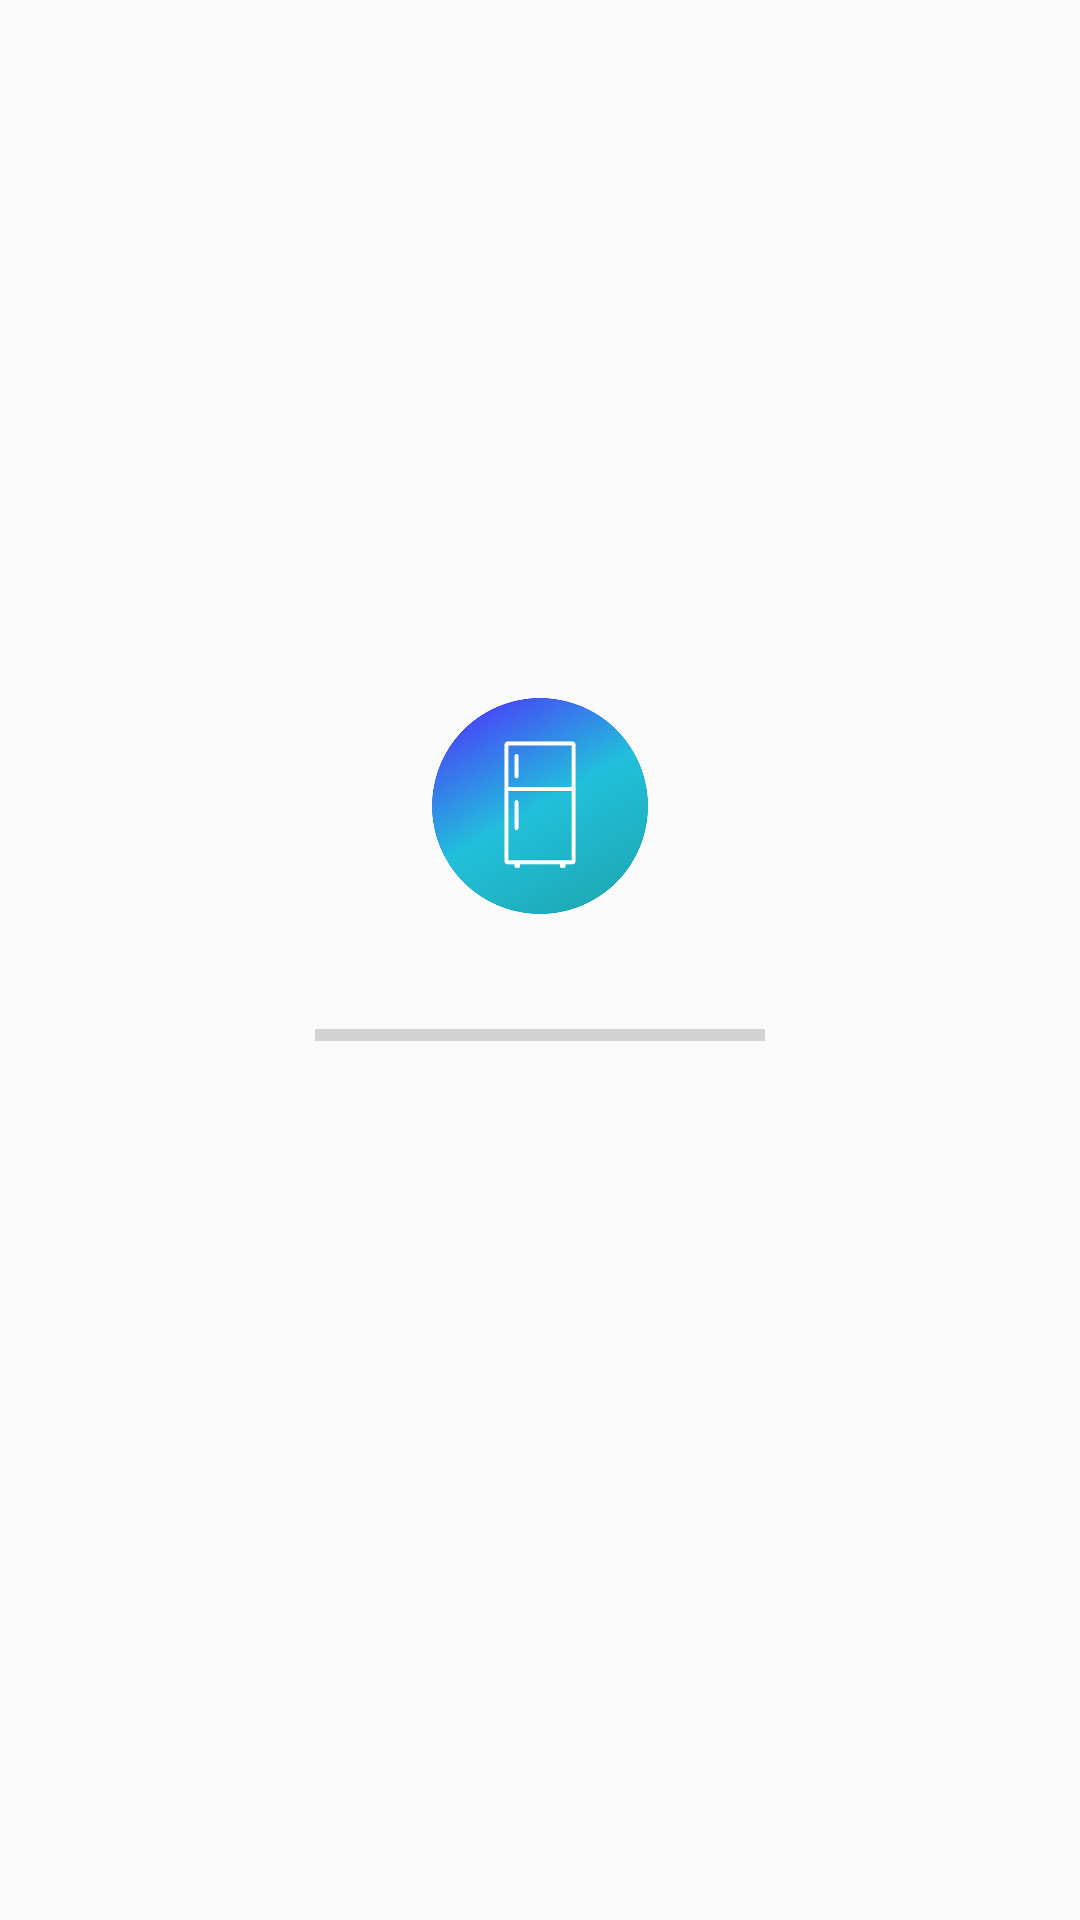

Where to tap for icons on this 1080px x 1920px app screen, as [x,y]:
fridge: [540,806]
